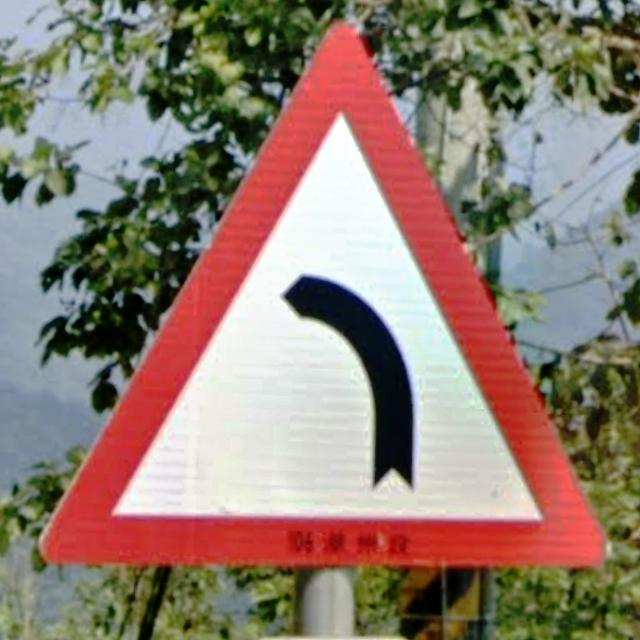leftbend: (39, 23, 608, 572)
